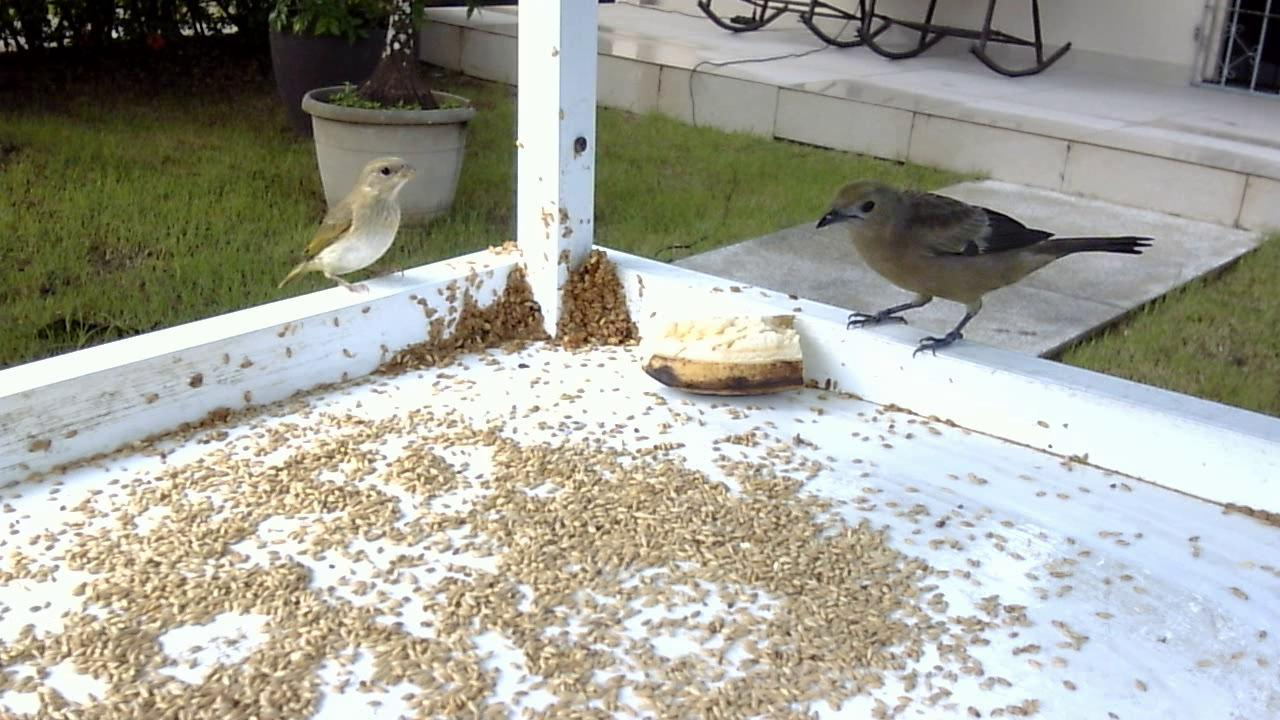canario_do_amazonas: (267, 157, 424, 305)
sanhaco_do_coqueiro: (808, 171, 1152, 370)
